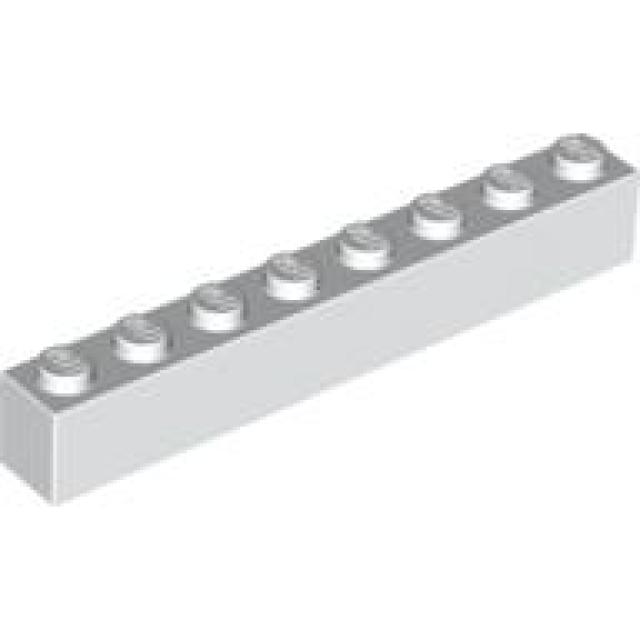White_Large: (0, 133, 640, 510)
